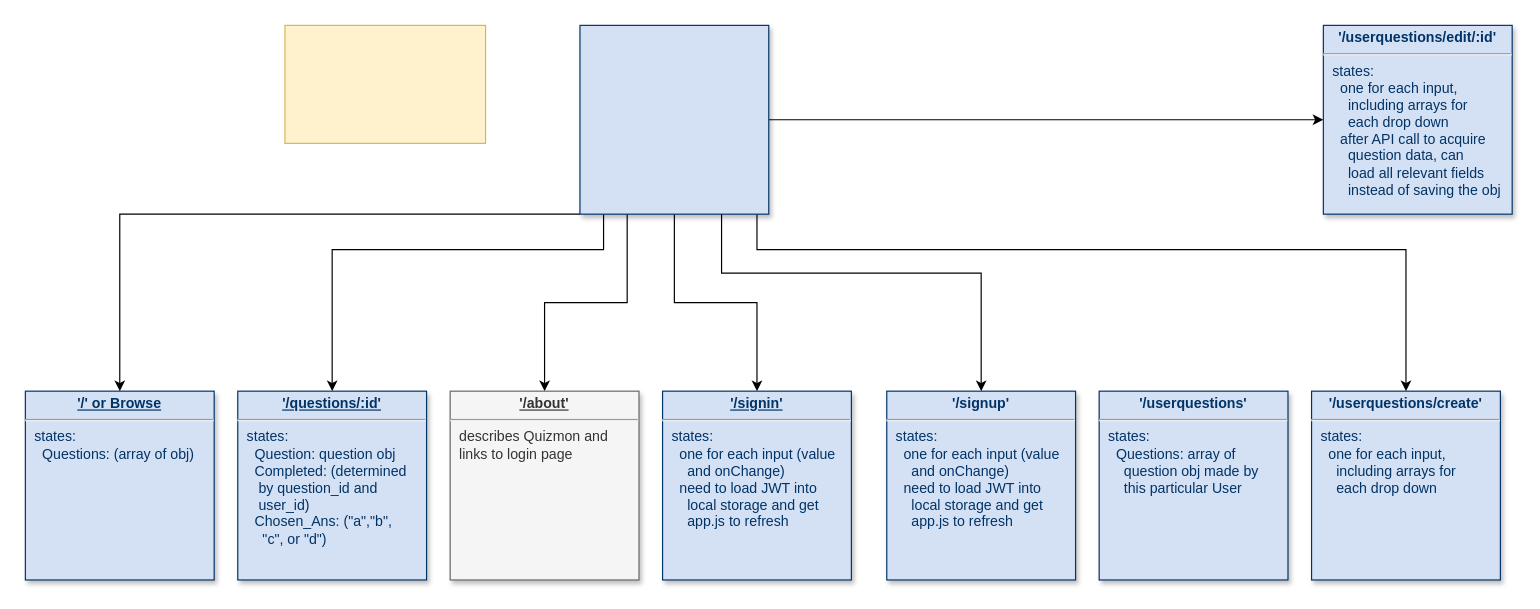
Some shapes in this 1540 by 609 pixel diagram are drawn without their labels. Each missing label, with the centre of its shape:
App states: User: { username: string email: string }: (675,120)
Local Storage ________________________ JWT (from sign in/ sign up): (385,83)
